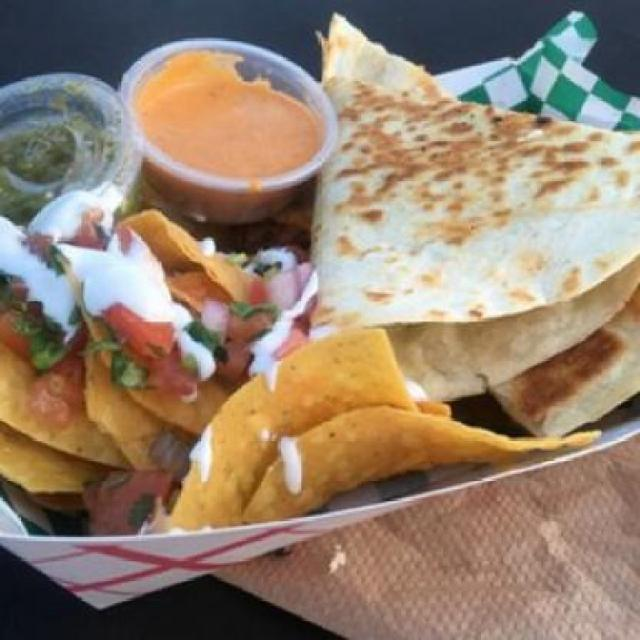chicken quesadilla: (300, 14, 638, 432)
